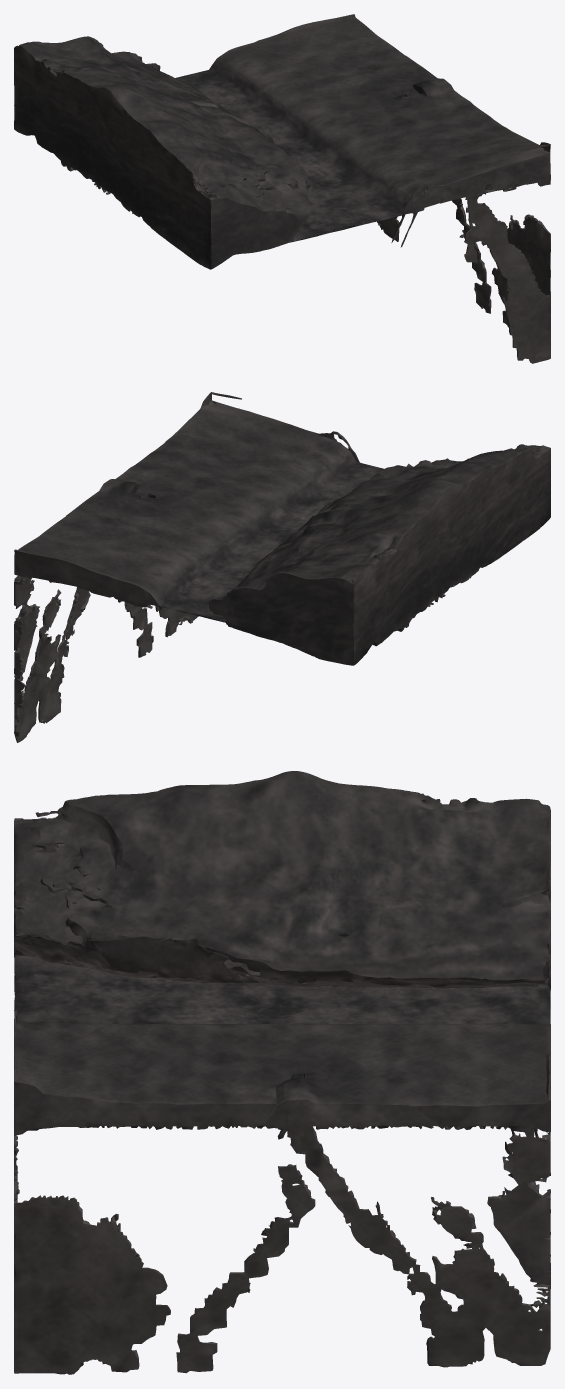
3 renders of one model, top to bottom at view 1: azimuth 30°, elevation 25°; view 2: azimuth 150°, elevation 25°; view 3: azimuth 270°, elevation 25°, orthographic. The views are drawn at different scales.
Visible parts, largest first — view 1: world; view 2: world; view 3: world.
Boxes of the visible parts, x1,y1,x2,y2 form: world: [14, 14, 550, 363]; world: [14, 392, 550, 742]; world: [14, 771, 550, 1374].
Bounding box in the file's own units: 1.2 × 0.9373 × 1.2.
1 material, 1 textured.
